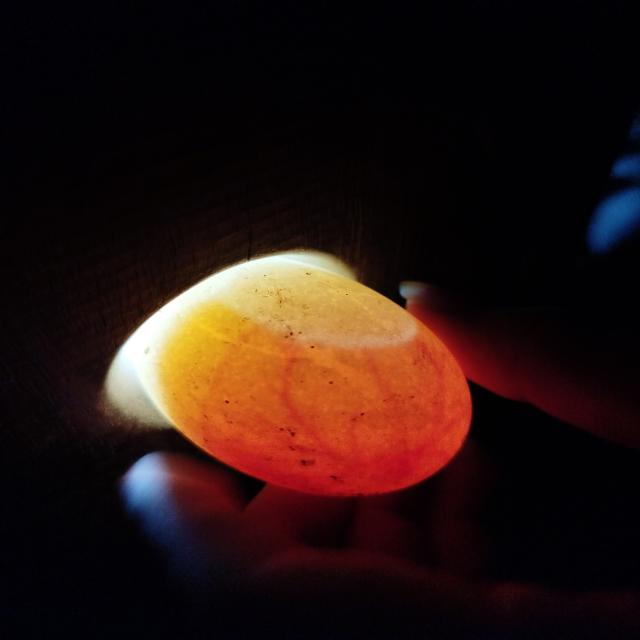Camara de Ar: (212, 262, 409, 337)
